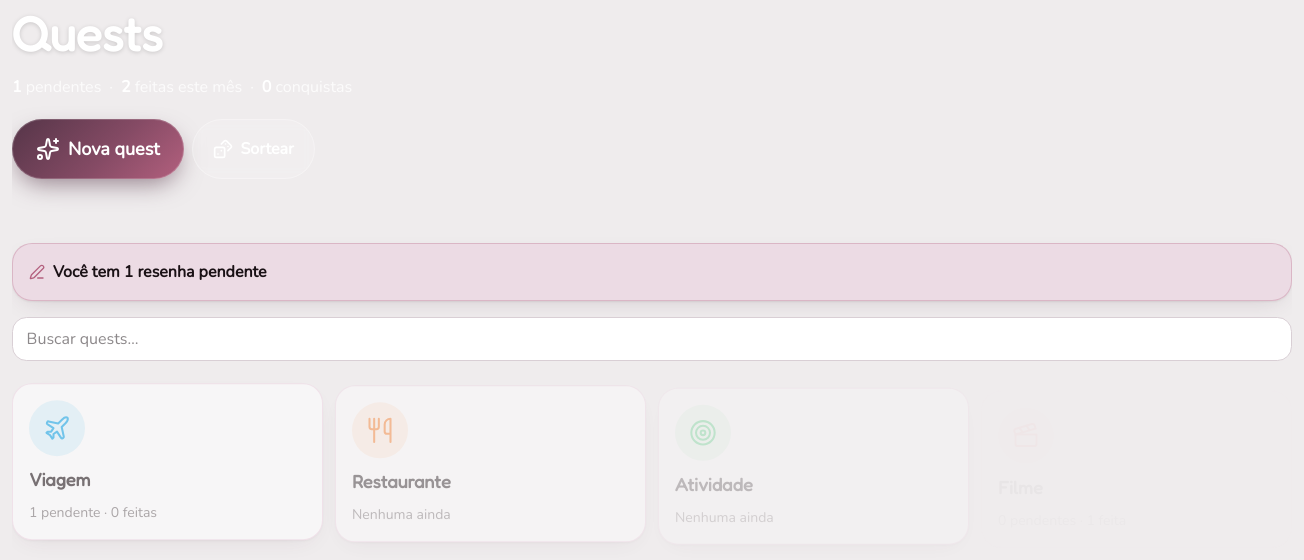
search ignores accents and finds subquests with their path
Type "toquio" into the search field labelled "Buscar quests" at [652, 339], box x1=12 y1=317 x2=1292 y2=361
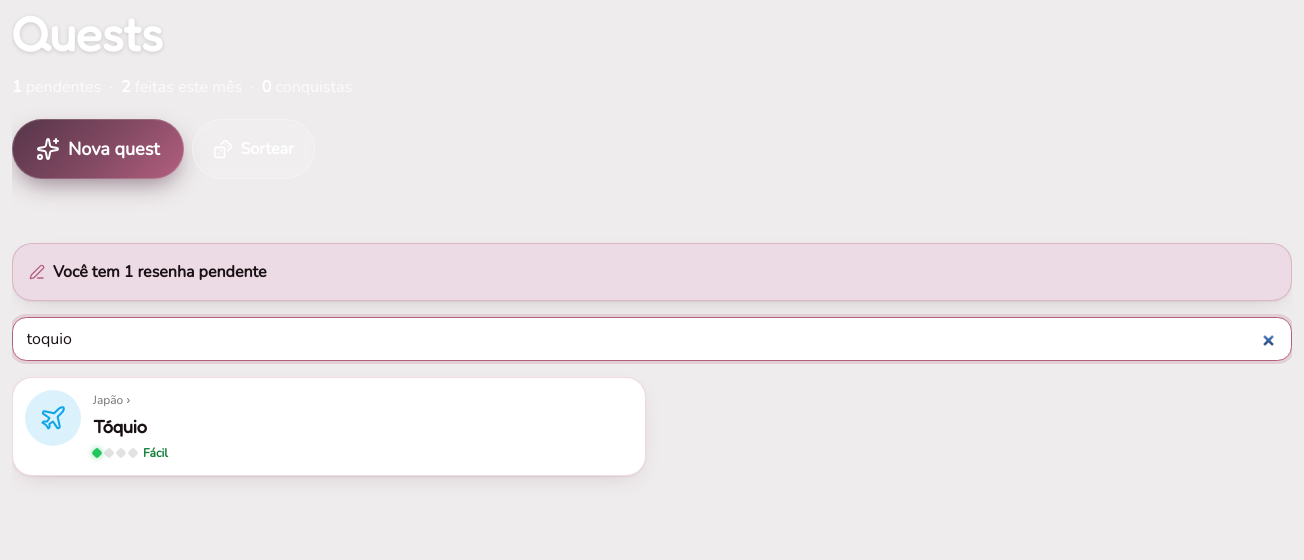
expect the text "Tóquio" is shown: met, box x1=93 y1=415 x2=147 y2=437
expect the text "Japão ›" is shown: met, box x1=93 y1=392 x2=130 y2=408
